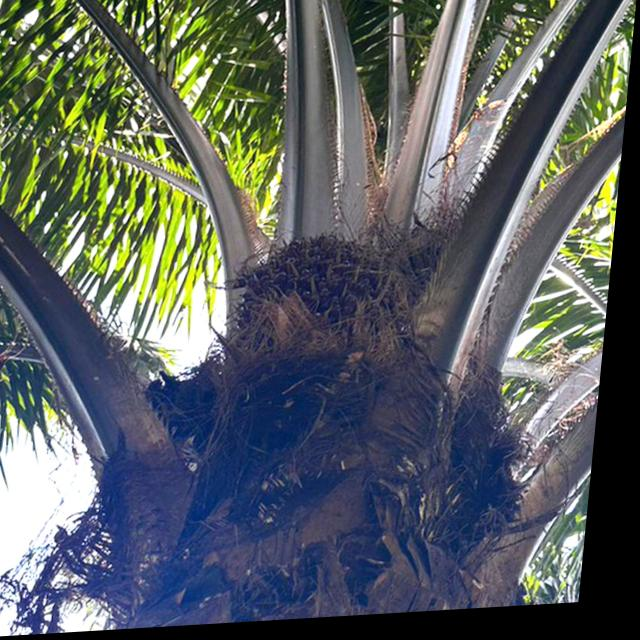almost: (219, 226, 421, 398)
